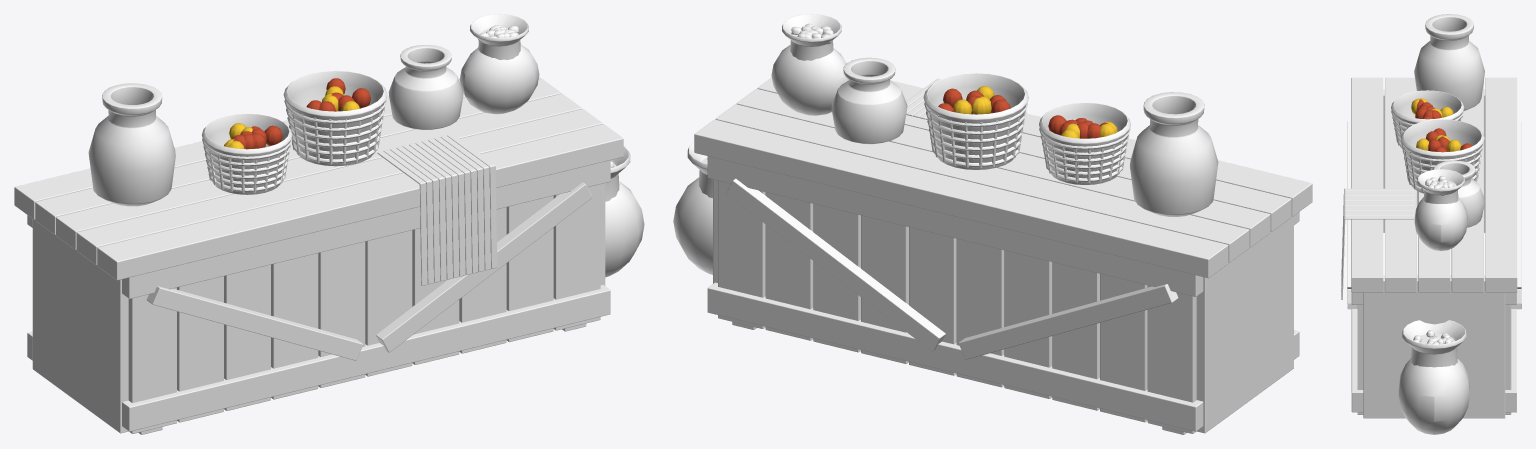
Rendered from 15_merchant_counter.glb.
3 renders of one model, left to right at view 1: azimuth 30°, elevation 25°; view 2: azimuth 150°, elevation 25°; view 3: azimuth 270°, elevation 25°, orthographic. The views are drawn at different scales.
Visible parts, largest first — view 1: 15_merchant_counter; view 2: 15_merchant_counter; view 3: 15_merchant_counter.
Boxes of the visible parts, x1,y1,x2,y2 form: 15_merchant_counter: (14,14,644,434); 15_merchant_counter: (673,14,1312,434); 15_merchant_counter: (1341,14,1521,434).
Size of the model in its own units: 3.17 by 1.52 by 1.07.
